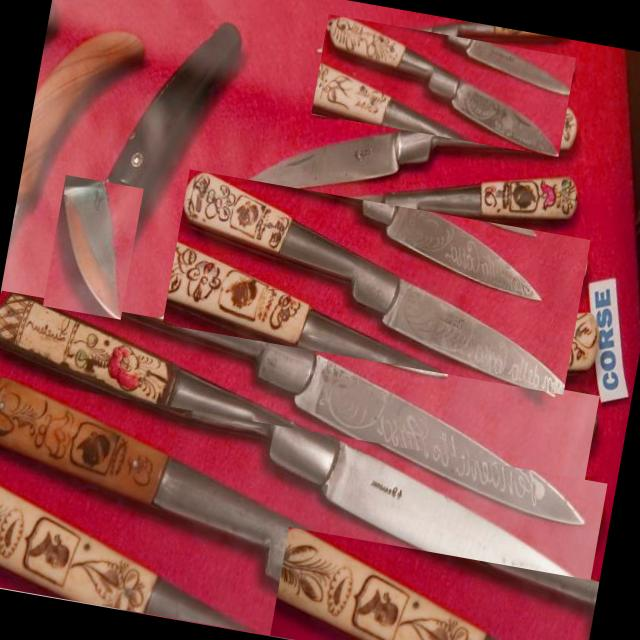Knife: (0, 294, 566, 610), (0, 378, 517, 640), (183, 173, 564, 392), (0, 312, 597, 428), (326, 16, 558, 157), (244, 106, 577, 189), (217, 176, 576, 249), (277, 529, 498, 640), (318, 21, 550, 55), (64, 181, 121, 319)
